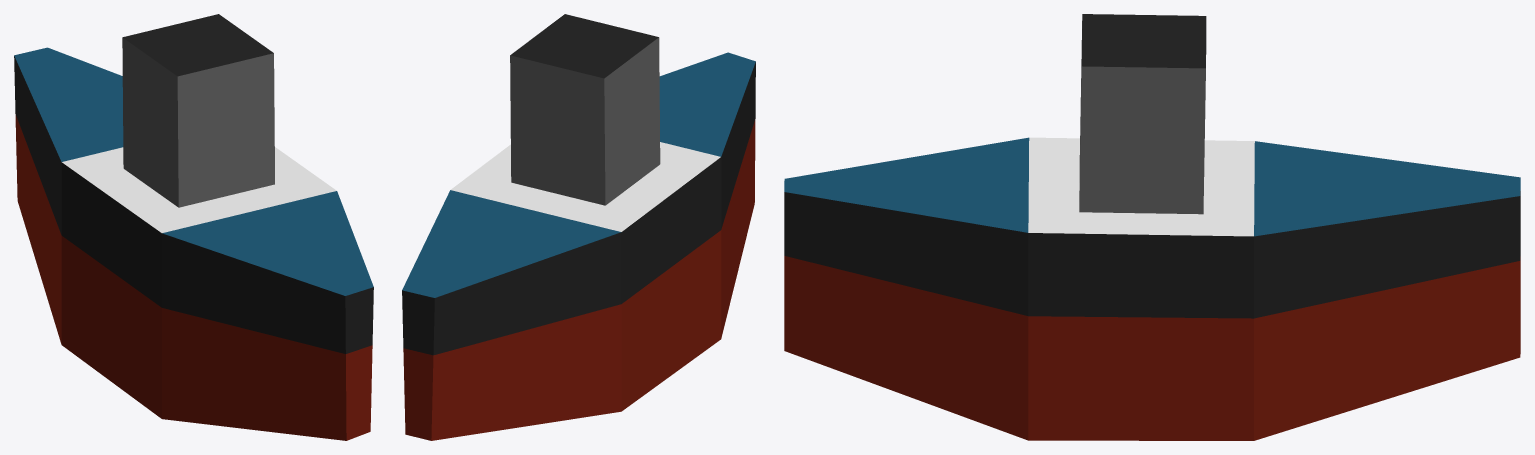
File: OnePipeShip_7.fbx
The picture shows the model from 3 angles, left to right: view 1: azimuth 30°, elevation 25°; view 2: azimuth 150°, elevation 25°; view 3: azimuth 270°, elevation 25°; orthographic projection. The views are drawn at different scales.
Parts seen in each view (by area): view 1: Cube.001; view 2: Cube.001; view 3: Cube.001.
Boxes of the visible parts, left/top/right/bottom form: Cube.001: left=14, top=14, right=373, bottom=440; Cube.001: left=402, top=14, right=755, bottom=440; Cube.001: left=784, top=14, right=1520, bottom=440.
Size of the model in its own units: 653 by 345 by 201.
Materials: 1 (1 with a texture image).
